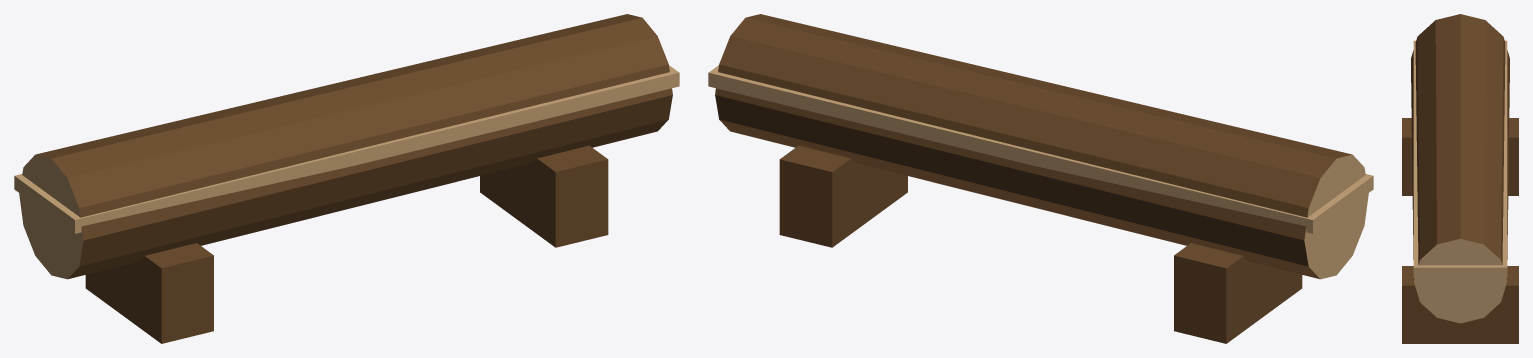
Rendered from Prop_LogBench.fbx.
3 renders of one model, left to right at view 1: azimuth 30°, elevation 25°; view 2: azimuth 150°, elevation 25°; view 3: azimuth 270°, elevation 25°, orthographic. The views are drawn at different scales.
Parts seen in each view (by area): view 1: Prop_LogBench.001; view 2: Prop_LogBench.001; view 3: Prop_LogBench.001.
Part boxes in pixels (x1,y1,x2,y2): Prop_LogBench.001: (14, 14, 679, 343); Prop_LogBench.001: (708, 14, 1373, 343); Prop_LogBench.001: (1402, 14, 1518, 343).
Size of the model in its own units: 1.84 by 0.51 by 0.4.
